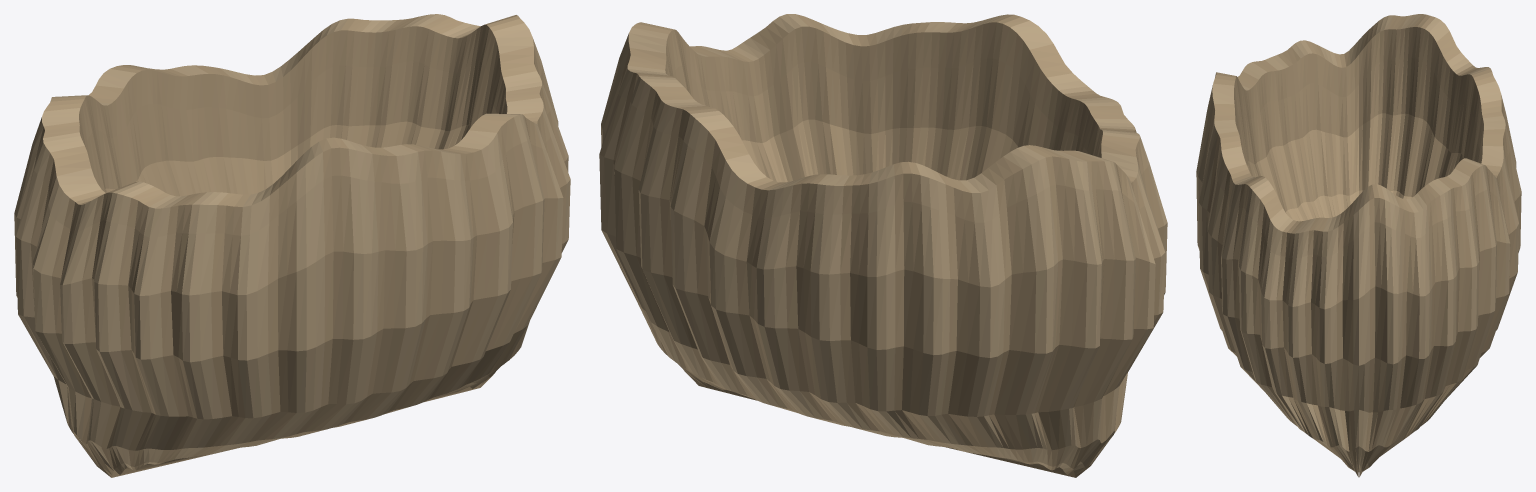
The picture shows the model from 3 angles, left to right: view 1: azimuth 30°, elevation 25°; view 2: azimuth 150°, elevation 25°; view 3: azimuth 270°, elevation 25°; orthographic projection. The views are drawn at different scales.
Visible parts, largest first — view 1: incomplete_elliptical_ernietta_basal_fossil_sack_integral_pa; view 2: incomplete_elliptical_ernietta_basal_fossil_sack_integral_pa; view 3: incomplete_elliptical_ernietta_basal_fossil_sack_integral_pa.
Part boxes in pixels (box(x1,y1,x2,y2)): incomplete_elliptical_ernietta_basal_fossil_sack_integral_pa: box(14, 14, 570, 477); incomplete_elliptical_ernietta_basal_fossil_sack_integral_pa: box(599, 14, 1167, 477); incomplete_elliptical_ernietta_basal_fossil_sack_integral_pa: box(1196, 14, 1521, 477).
Bounding box in the file's own units: 0.0848 × 0.0554 × 0.0531.
